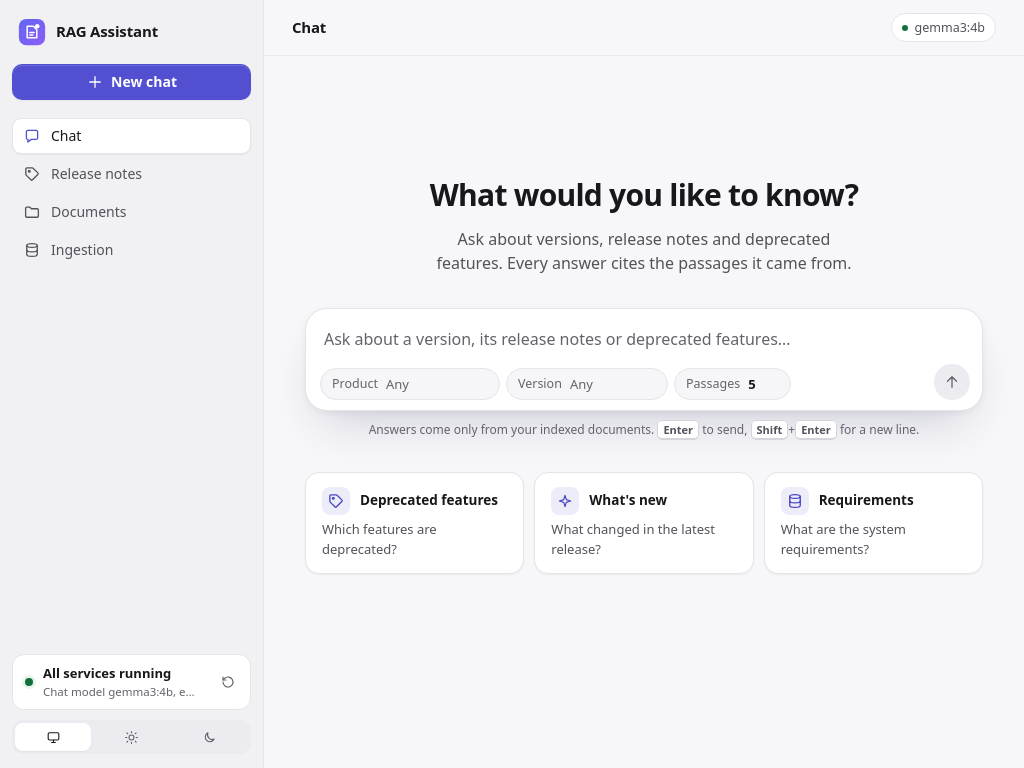
Test: App shell › switches tabs through the URL hash
Click the tab "Ingestion".
click(68, 250)  # box [23,240,113,259]
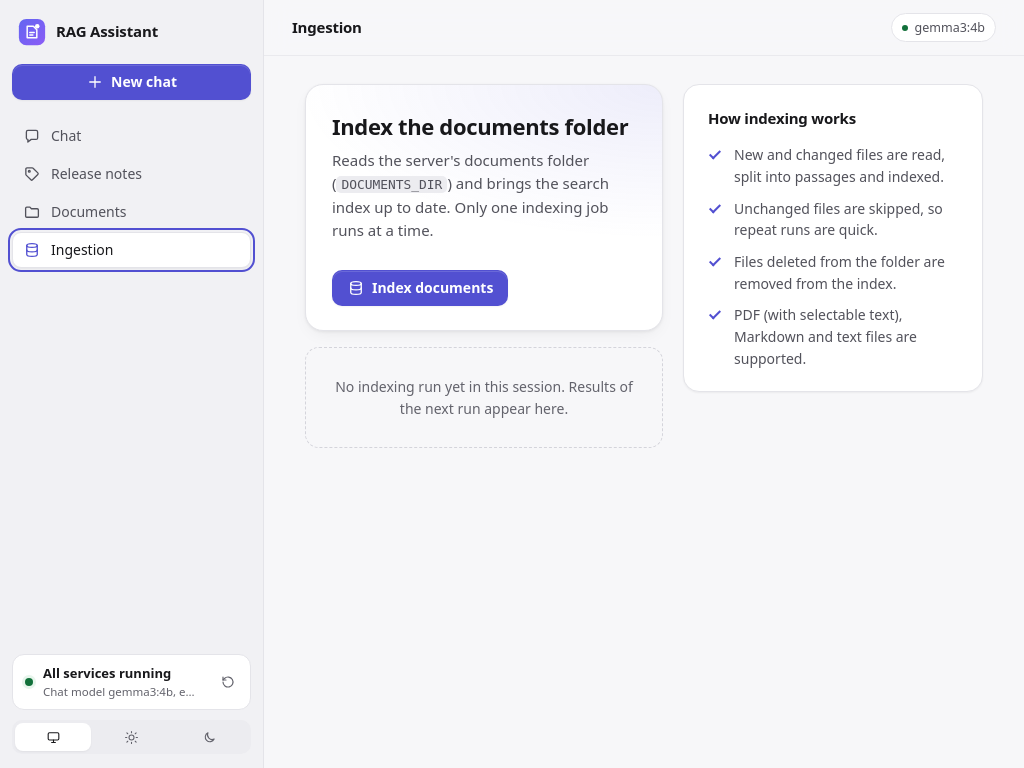
Expected: the tab "Ingestion" is shown, [12,232,251,268]
Expected: the heading "Ingestion" is shown, [292,16,362,39]
Expected: the number of panels is 1, [305,84,983,488]
